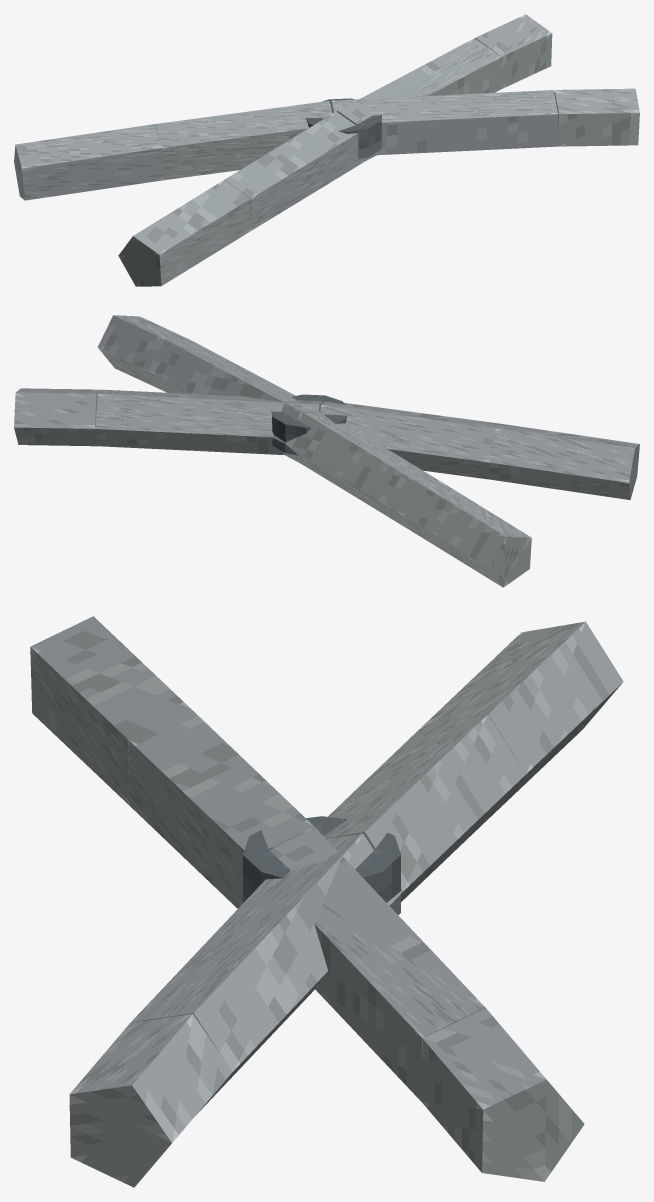
Rendered from metalworking_tongs.glb.
The picture shows the model from 3 angles, top to bottom: view 1: azimuth 30°, elevation 25°; view 2: azimuth 150°, elevation 25°; view 3: azimuth 270°, elevation 25°; orthographic projection. The views are drawn at different scales.
Visible parts, largest first — view 1: block_long lever arm 0 (×2), block_long lever arm 2 (×2), block_long lever arm 1 (×2), block_long lever arm 3 (×2), block_pivot pin; view 2: block_long lever arm 0 (×2), block_long lever arm 2 (×2), block_long lever arm 1 (×2), block_long lever arm 3 (×2), block_pivot pin; view 3: block_long lever arm 2 (×2), block_long lever arm 1 (×2), block_long lever arm 3 (×2), block_long lever arm 0 (×2), block_pivot pin.
Boxes of the visible parts, left/top/right/bottom form: block_long lever arm 0 (×2): left=14, top=124, right=252, bottom=286; block_long lever arm 2 (×2): left=331, top=38, right=557, bottom=161; block_long lever arm 1 (×2): left=155, top=101, right=364, bottom=229; block_long lever arm 3 (×2): left=475, top=14, right=639, bottom=146; block_pivot pin: left=306, top=98, right=381, bottom=158; block_long lever arm 0 (×2): left=397, top=423, right=639, bottom=587; block_long lever arm 2 (×2): left=95, top=339, right=322, bottom=463; block_long lever arm 1 (×2): left=285, top=401, right=499, bottom=531; block_long lever arm 3 (×2): left=14, top=315, right=190, bottom=446; block_pivot pin: left=271, top=394, right=346, bottom=455; block_long lever arm 2 (×2): left=131, top=828, right=485, bottom=1114; block_long lever arm 1 (×2): left=128, top=709, right=525, bottom=908; block_long lever arm 3 (×2): left=69, top=1008, right=584, bottom=1187; block_long lever arm 0 (×2): left=30, top=616, right=623, bottom=821; block_pivot pin: left=243, top=816, right=400, bottom=914.
Size of the model in its own units: 0.44 by 0.059 by 0.2166.
Materials: 1 (1 with a texture image).
